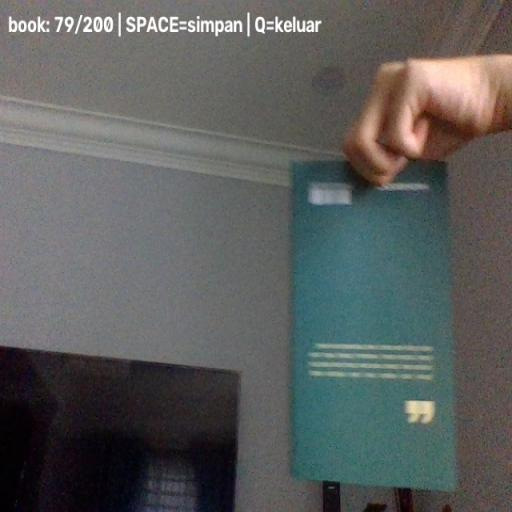Book: (288, 159, 456, 493)
